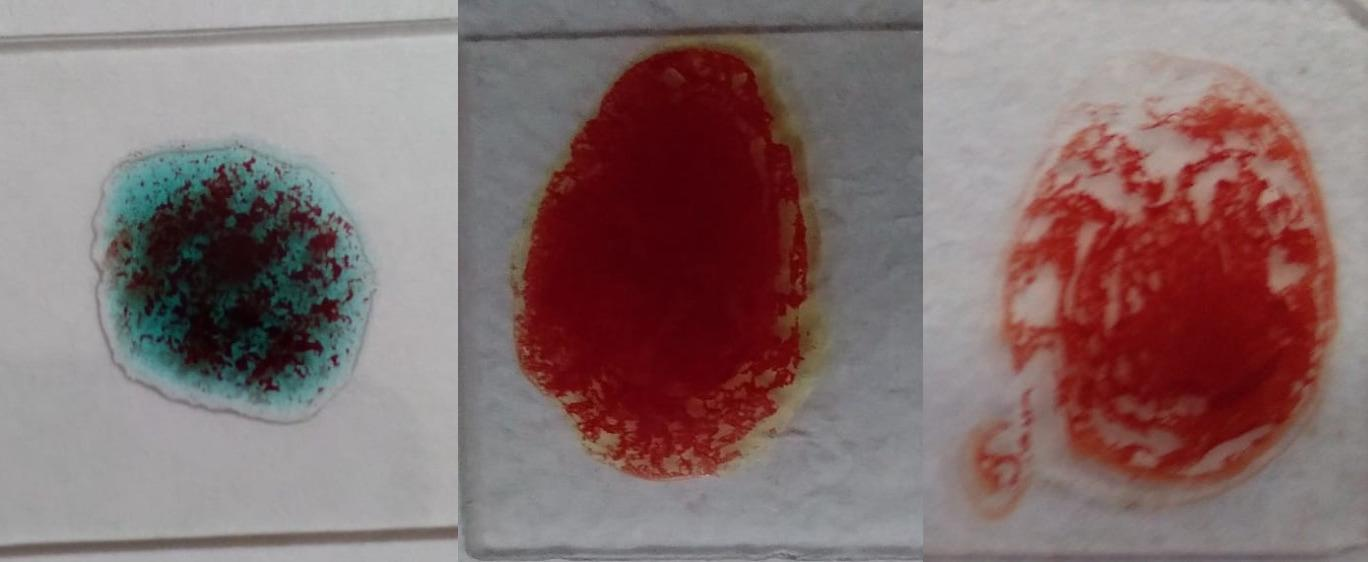A: (79, 146, 372, 434)
B: (505, 50, 821, 487)
D: (1020, 55, 1334, 493)
